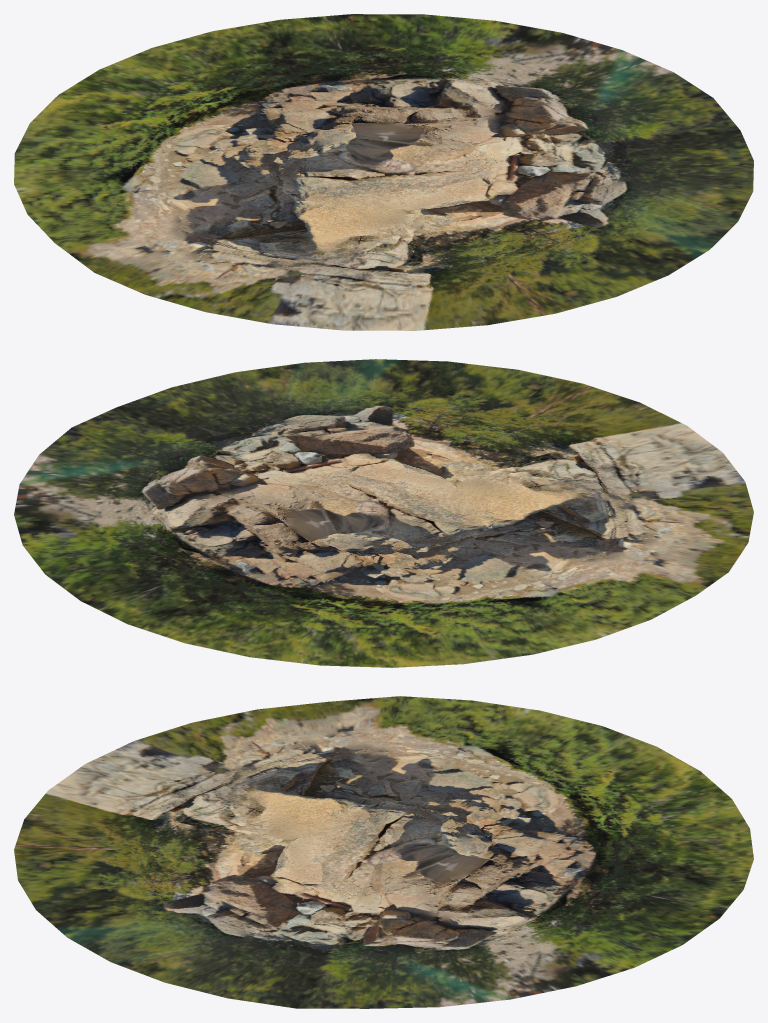
Rendered from GroundPlane.gltf.
The picture shows the model from 3 angles, top to bottom: view 1: azimuth 30°, elevation 25°; view 2: azimuth 150°, elevation 25°; view 3: azimuth 270°, elevation 25°; orthographic projection.
Visible parts, largest first — view 1: Sphere.004; view 2: Sphere.004; view 3: Sphere.004.
Part boxes in pixels (box(x1,y1,x2,y2)): Sphere.004: box(14, 14, 753, 330); Sphere.004: box(14, 359, 753, 667); Sphere.004: box(14, 696, 753, 1008).
Size of the model in its own units: 183 by 1.99 by 183.
Materials: 1 (1 with a texture image).
